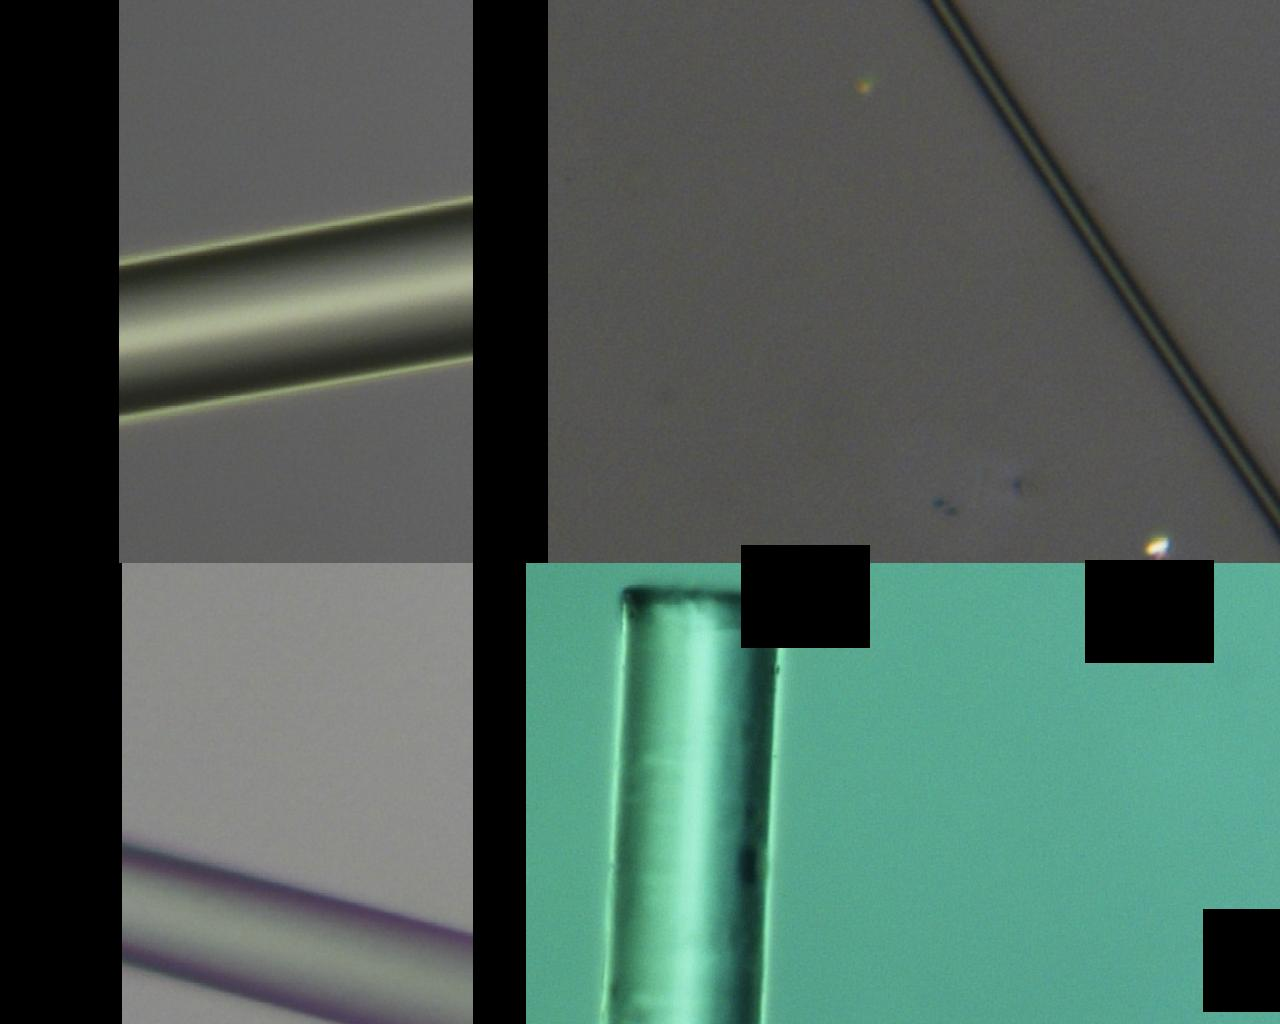fiber: (127, 605, 1151, 762)
